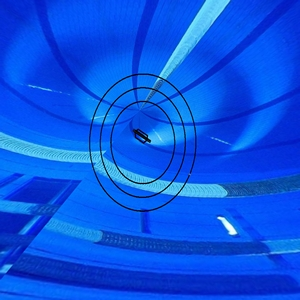circle: (87, 70, 205, 214)
submarine: (129, 124, 157, 149)
